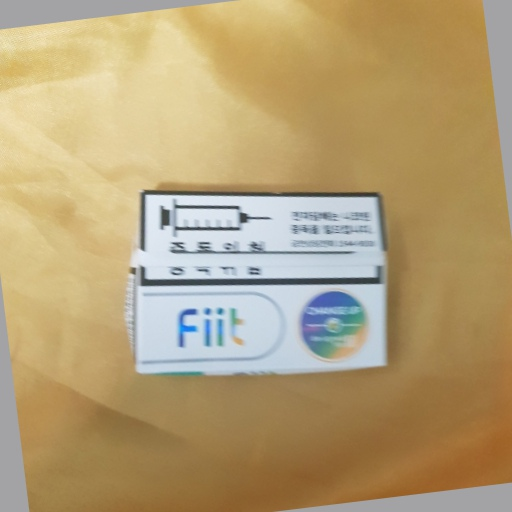Paper_0: (121, 182, 404, 385)
